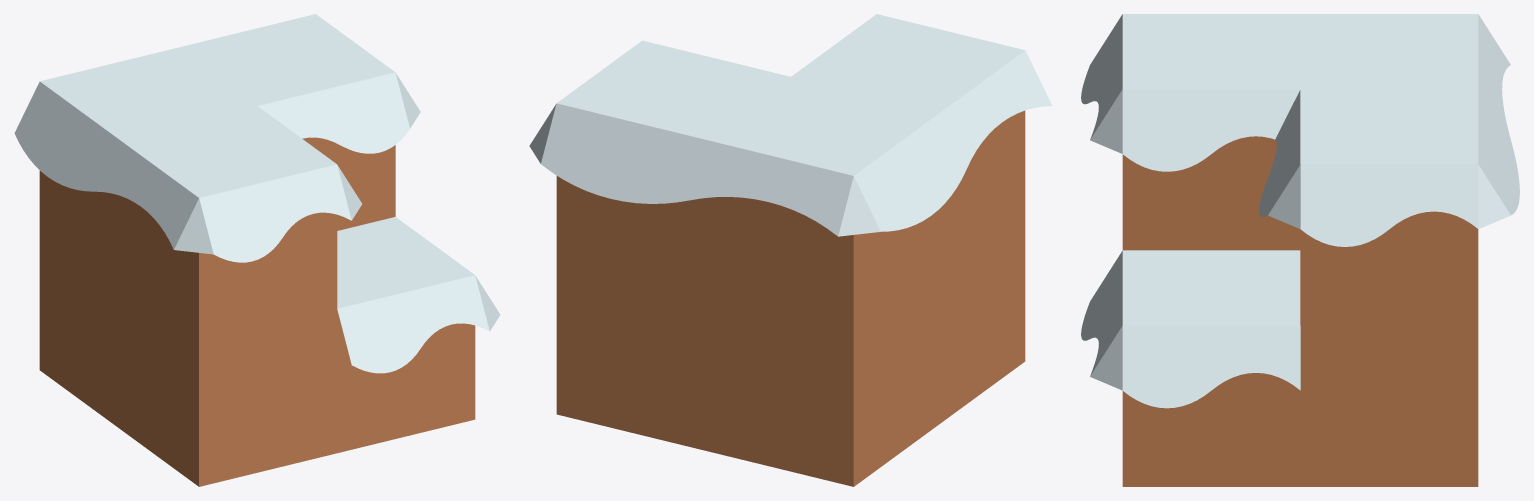
Rendered from blockSnowLevel.dae.
The picture shows the model from 3 angles, left to right: view 1: azimuth 30°, elevation 25°; view 2: azimuth 150°, elevation 25°; view 3: azimuth 270°, elevation 25°; orthographic projection. The views are drawn at different scales.
Visible parts, largest first — view 1: blockSnowLevel; view 2: blockSnowLevel; view 3: blockSnowLevel.
Boxes of the visible parts, box(x1,y1,x2,y2) form: blockSnowLevel: box(14, 14, 500, 486); blockSnowLevel: box(529, 14, 1052, 486); blockSnowLevel: box(1081, 14, 1519, 486).
Bounding box in the file's own units: 1.23 × 1 × 1.23.
